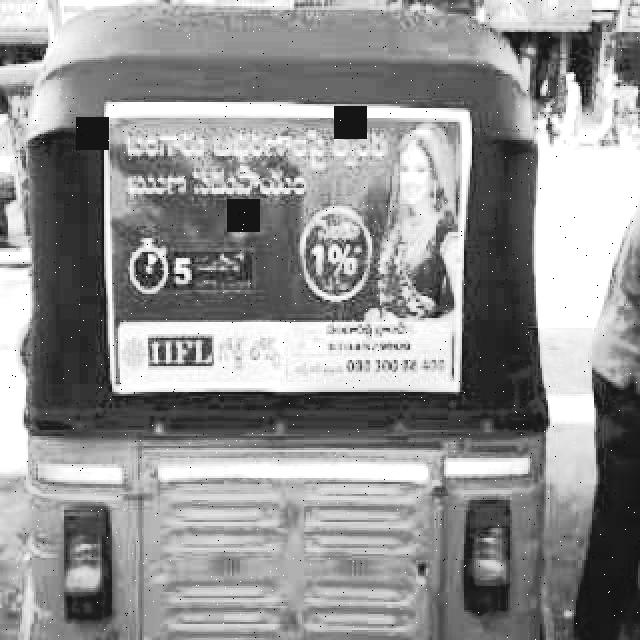Auto-Rickshaw: (28, 10, 548, 640)
